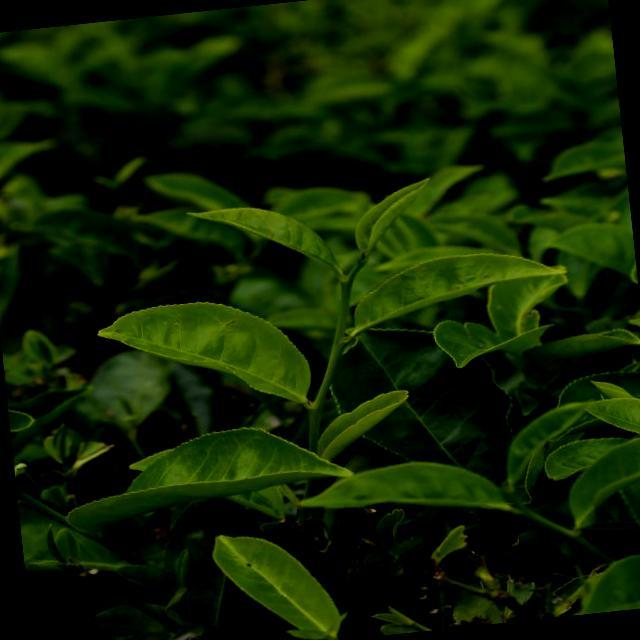Stem: (342, 281, 350, 295)
